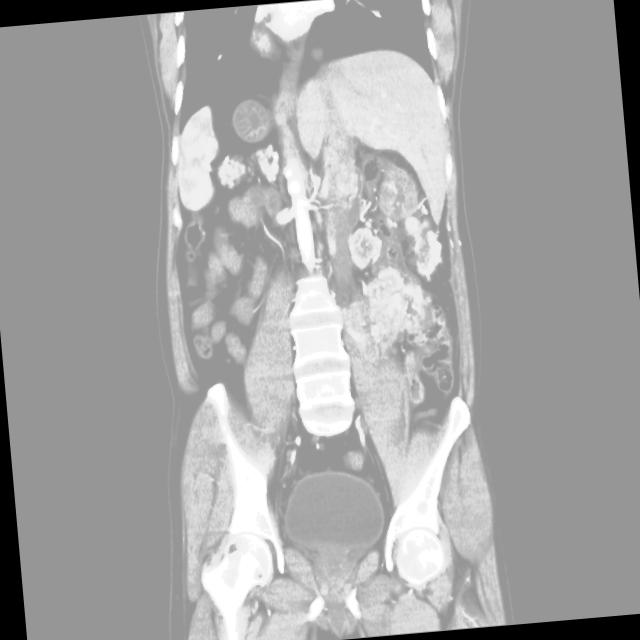TUMOR: (108, 164, 606, 506)
